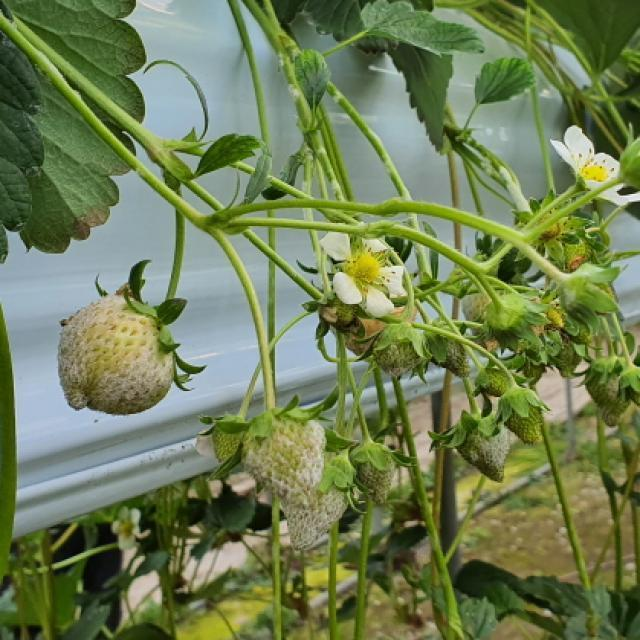Powdery Mildew Fruit: (55, 295, 178, 418), (239, 406, 328, 498), (280, 454, 353, 549), (453, 416, 510, 482)
